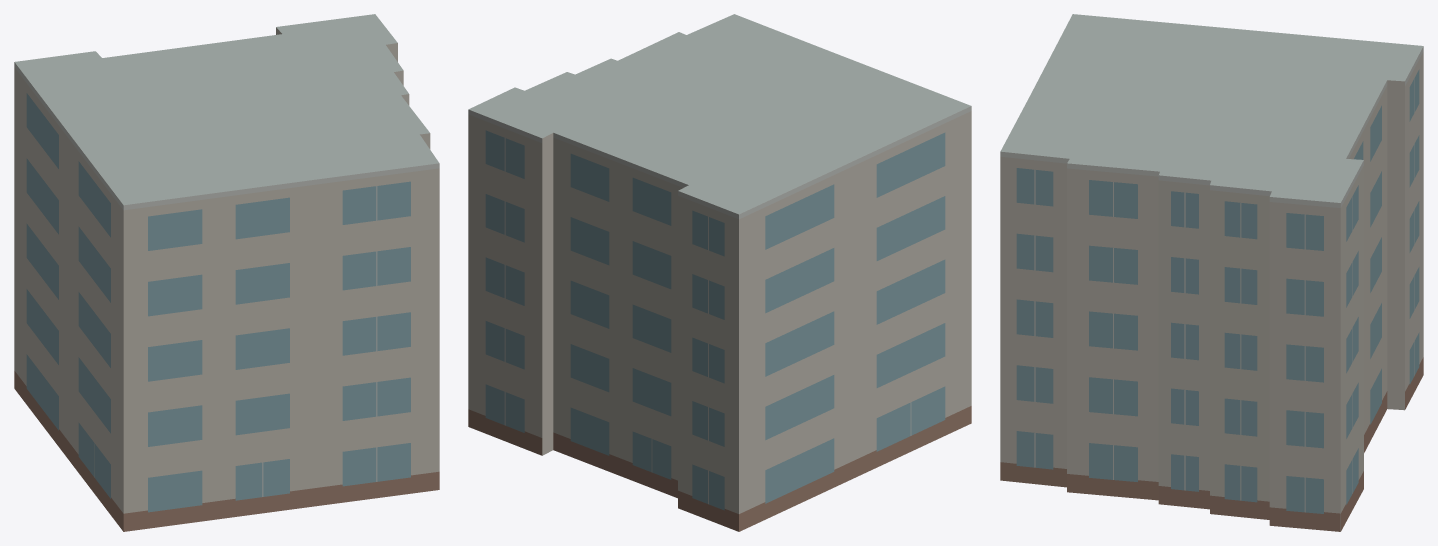
Rendered from survey-upis-32660194.glb.
3 views of the same model, side by side, from view 1: azimuth 30°, elevation 25°; view 2: azimuth 150°, elevation 25°; view 3: azimuth 270°, elevation 25° (orthographic). The views are drawn at different scales.
Parts seen in each view (by area): view 1: survey-upis-32660194.tmp; view 2: survey-upis-32660194.tmp; view 3: survey-upis-32660194.tmp.
Boxes of the visible parts, x1=… form: survey-upis-32660194.tmp: x1=14, y1=14, x2=439, y2=531; survey-upis-32660194.tmp: x1=468, y1=14, x2=971, y2=531; survey-upis-32660194.tmp: x1=1000, y1=14, x2=1423, y2=531.
Size of the model in its own units: 19.55 by 15.85 by 18.5.
